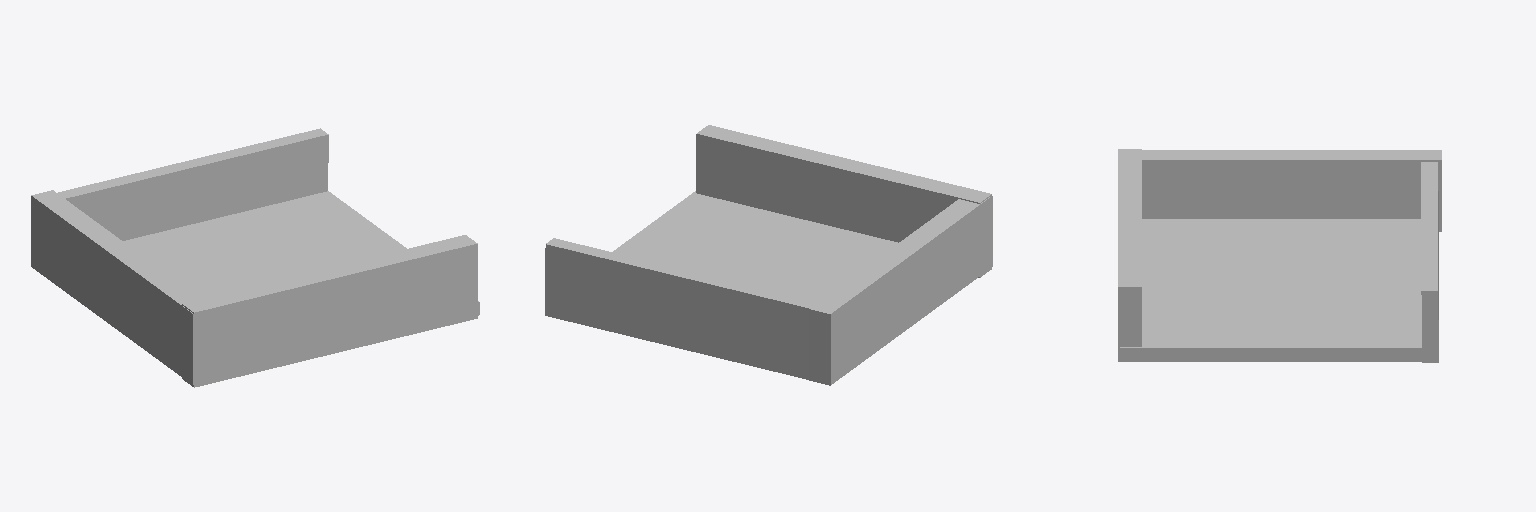
The picture shows the model from 3 angles: view 1: azimuth 30°, elevation 25°; view 2: azimuth 150°, elevation 25°; view 3: azimuth 270°, elevation 25°; orthographic projection.
Parts seen in each view (by area): view 1: box, wall, roof; view 2: wall, box, roof; view 3: box, roof, wall.
Part boxes in pixels (x1,y1,x2,y2): box: (31, 128, 479, 387); wall: (31, 130, 477, 386); roof: (182, 217, 479, 302); wall: (545, 125, 992, 385); box: (545, 135, 992, 385); roof: (618, 191, 897, 293); box: (1118, 149, 1441, 362); roof: (1120, 219, 1436, 361); wall: (1118, 149, 1441, 362).
Bounding box in the file's own units: 84.09 × 20.98 × 82.26.